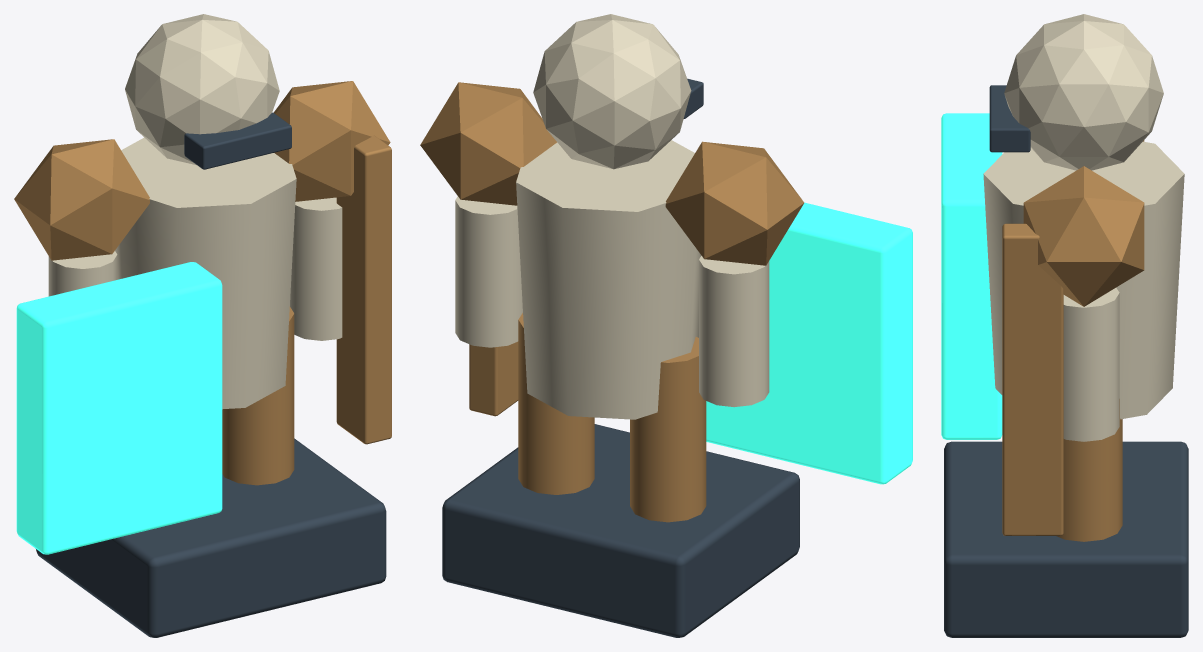
The model's file is sunfall-rift-moba-melee-minion-d9756357__21988.glb.
3 views of the same model, side by side, from view 1: azimuth 30°, elevation 25°; view 2: azimuth 150°, elevation 25°; view 3: azimuth 270°, elevation 25° (orthographic). The views are drawn at different scales.
Visible parts, largest first — view 1: melee-minion; view 2: melee-minion; view 3: melee-minion.
Part boxes in pixels (x1,y1,x2,y2): melee-minion: (14,14,391,637); melee-minion: (420,14,912,637); melee-minion: (941,14,1188,637).
Bounding box in the file's own units: 0.9268 × 1.21 × 0.4852.
